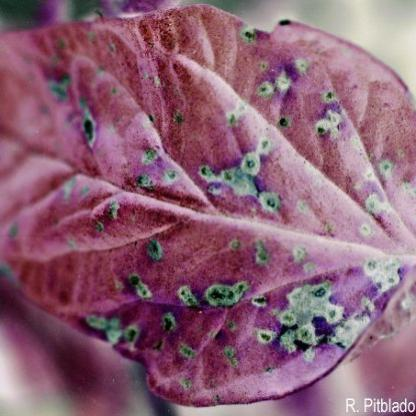Tomato Septoria leaf spot: (1, 14, 410, 406)
